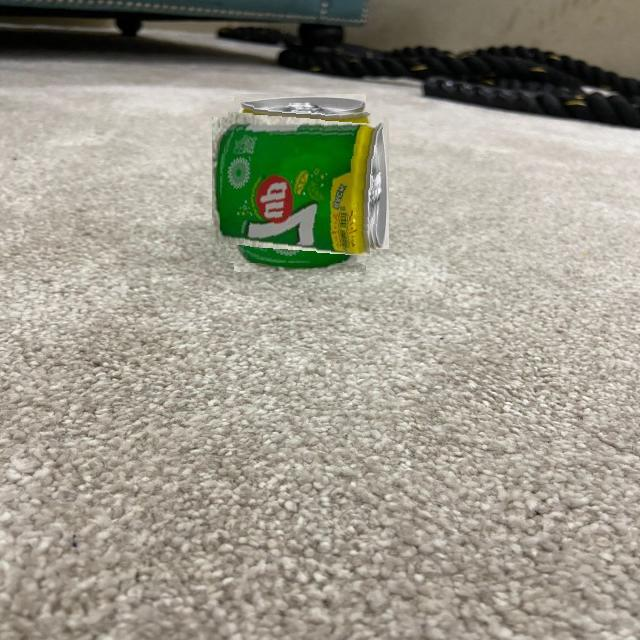recyclable: (220, 103, 380, 263)
